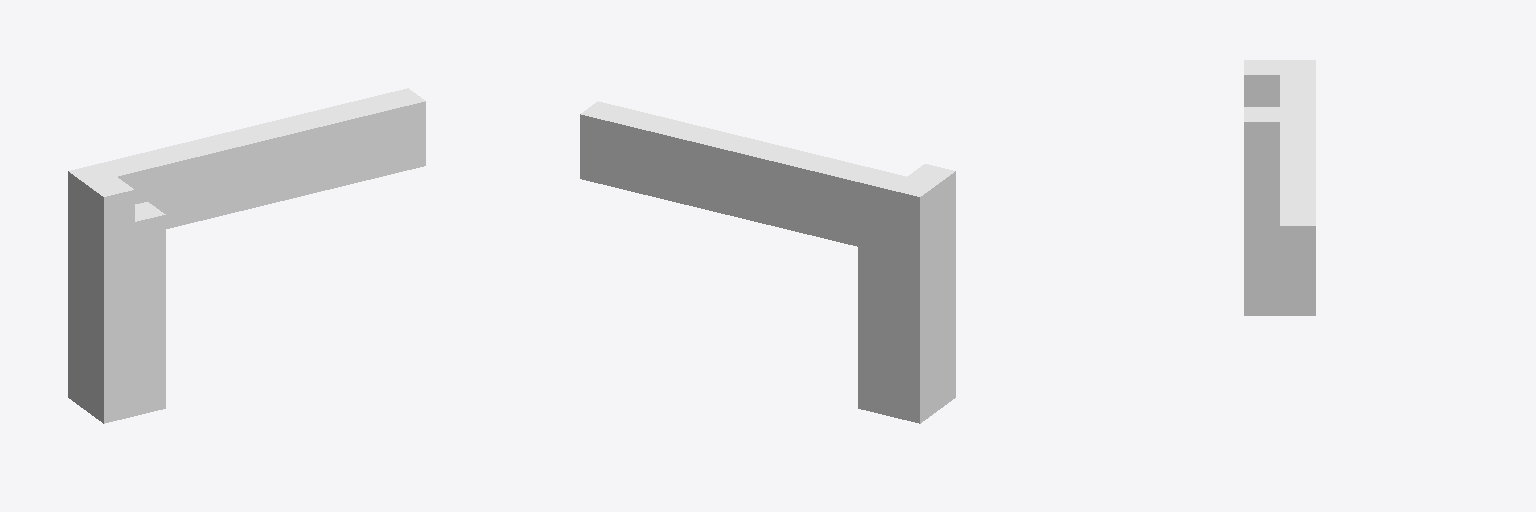
File: Obstacle3.obj
The picture shows the model from 3 angles: view 1: azimuth 30°, elevation 25°; view 2: azimuth 150°, elevation 25°; view 3: azimuth 270°, elevation 25°; orthographic projection.
Size of the model in its own units: 11 by 7 by 2.